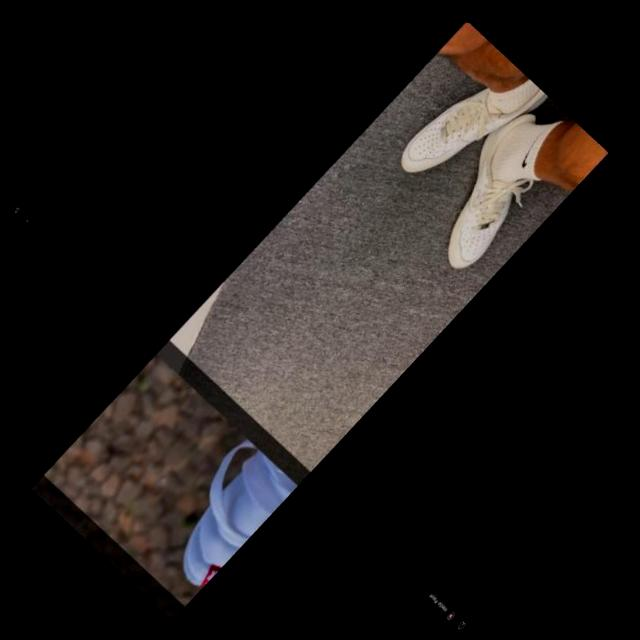nike_original_airforce: (398, 79, 588, 293), (386, 32, 556, 223)
